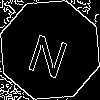N: (25, 25, 74, 80)
